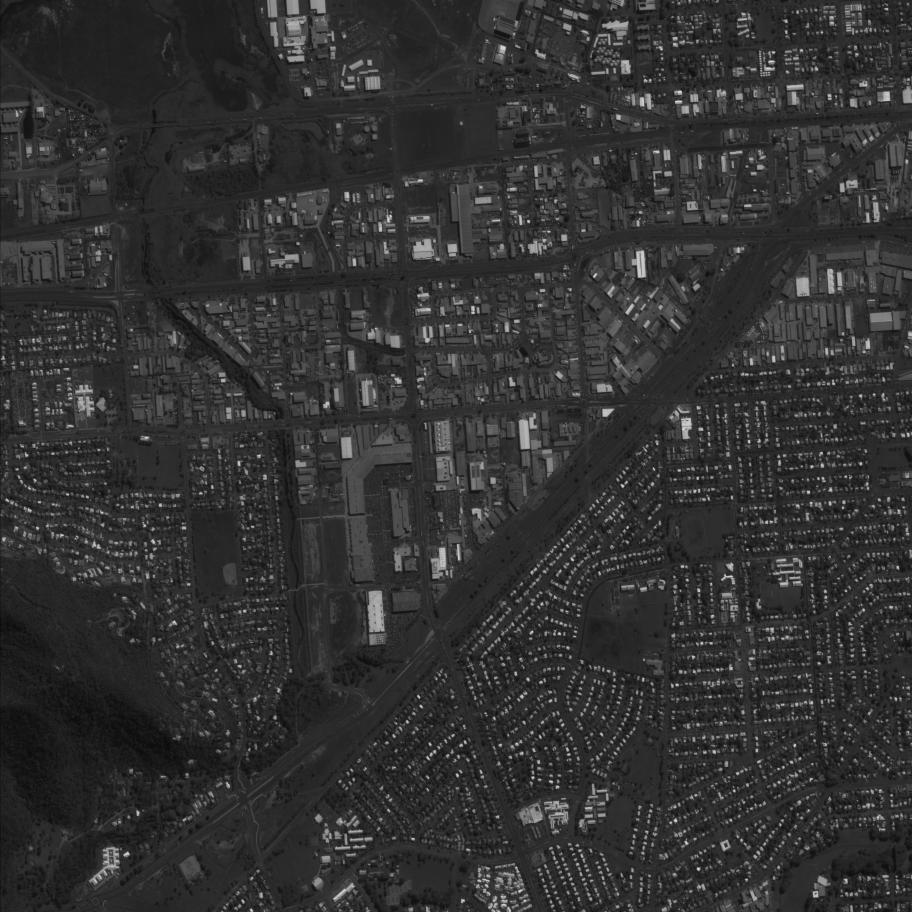plane: (560, 80, 572, 91)
storage-tank: (370, 124, 378, 132), (363, 125, 370, 133)
